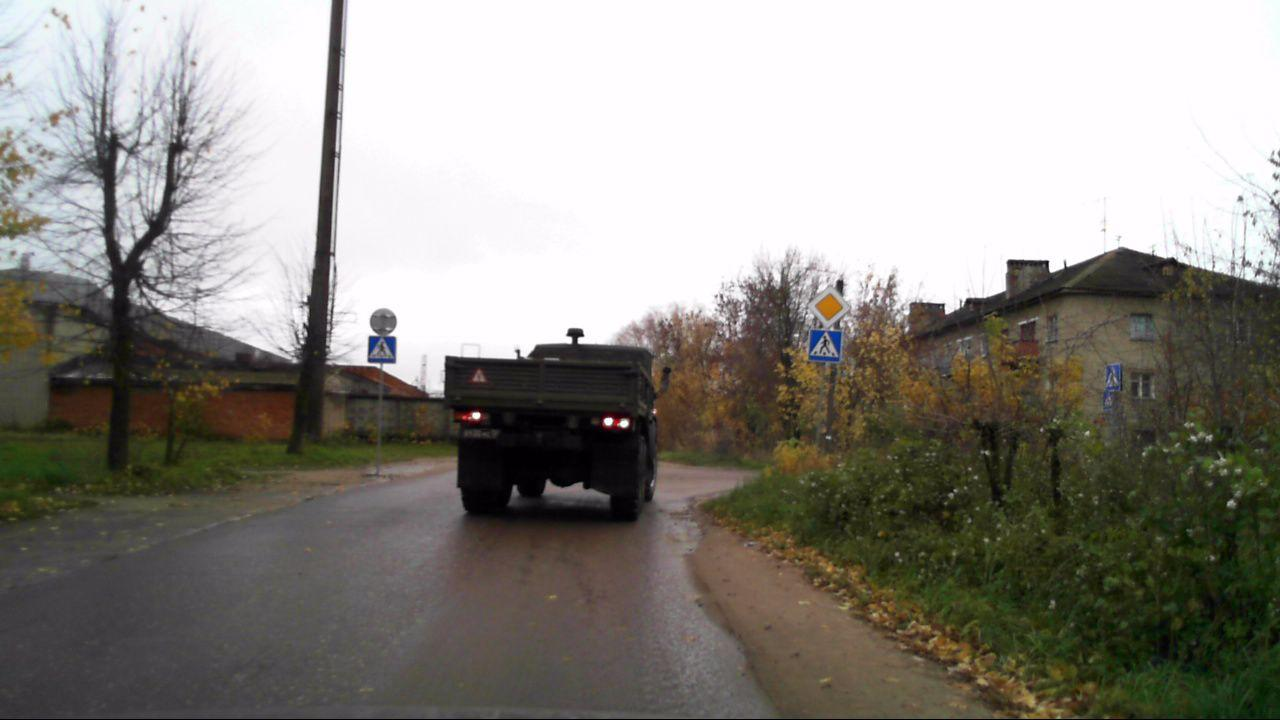2_1: (809, 284, 850, 326)
5_19_1: (807, 327, 843, 362), (367, 335, 396, 363)
